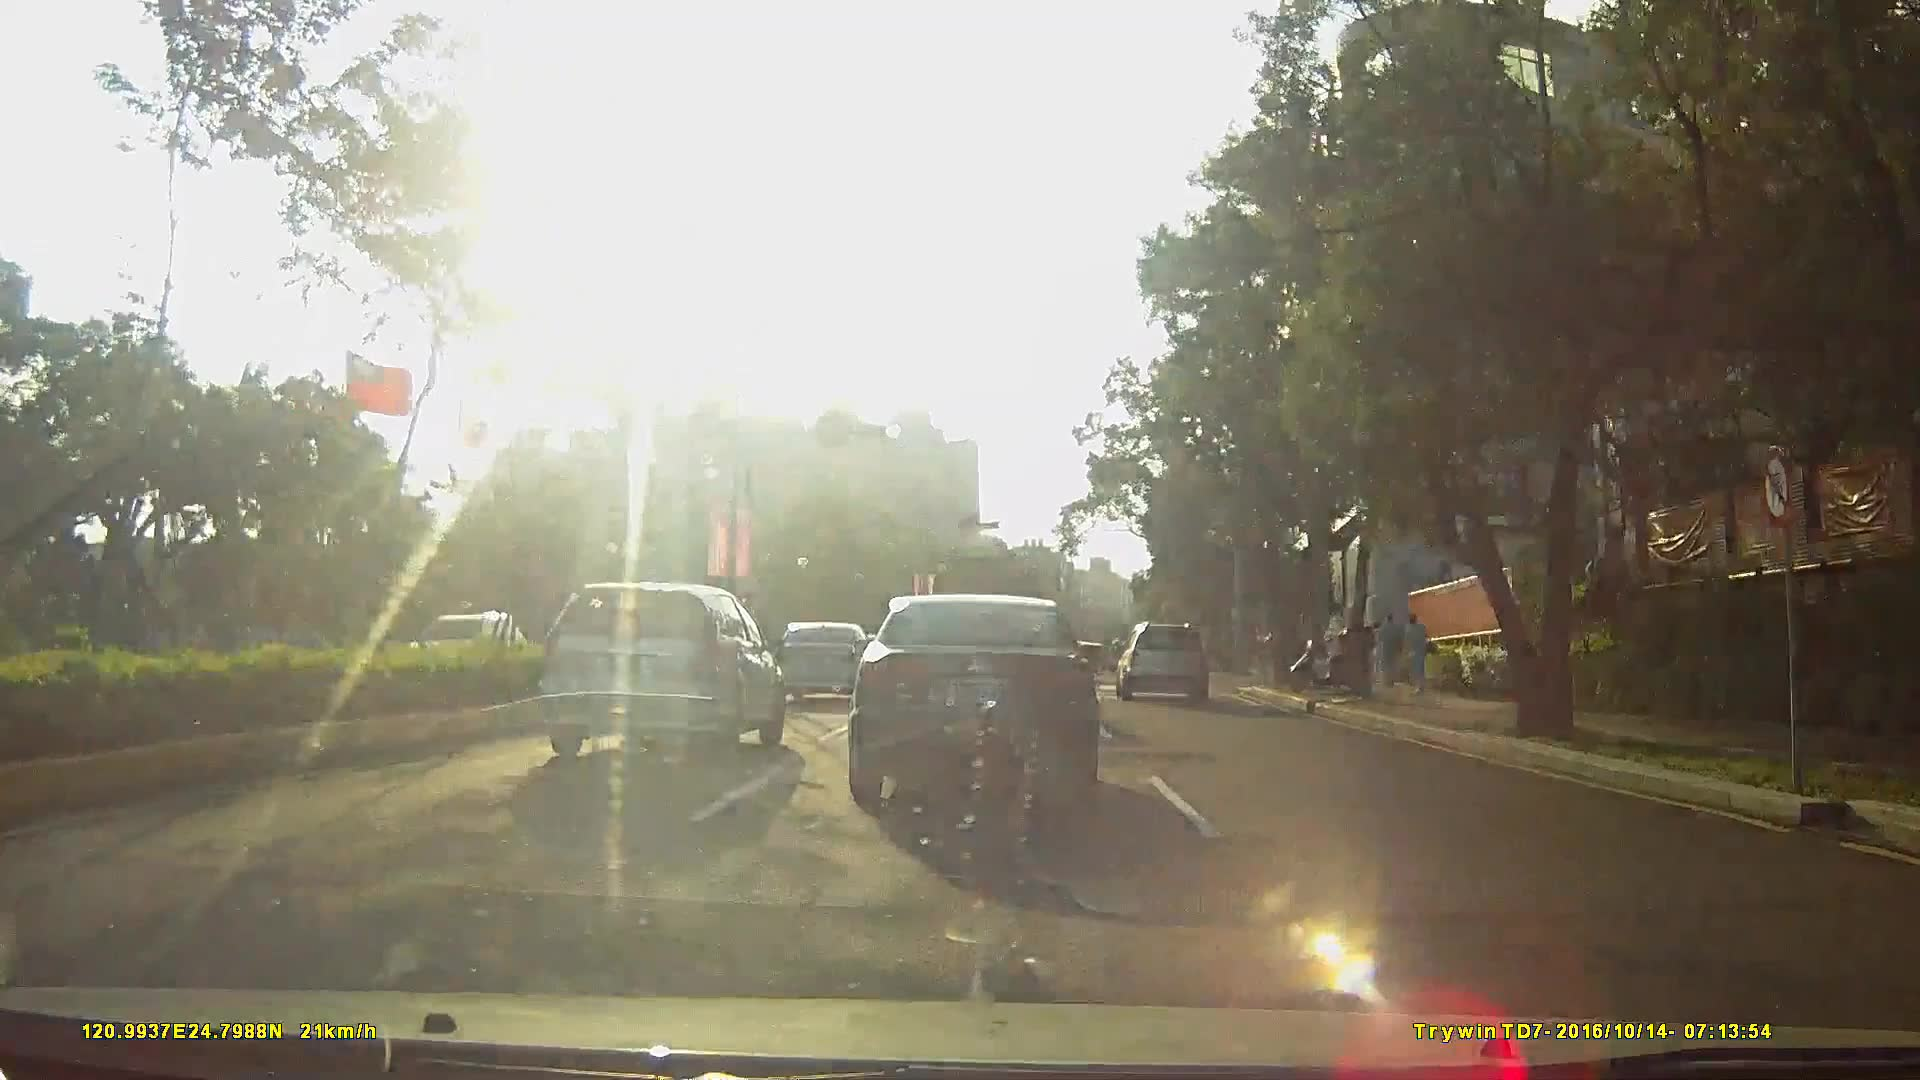pedestrian: (1403, 616, 1436, 702), (1376, 612, 1402, 698)
vehicle: (843, 593, 1098, 815), (531, 580, 786, 762), (774, 621, 877, 712), (1111, 622, 1218, 708)
